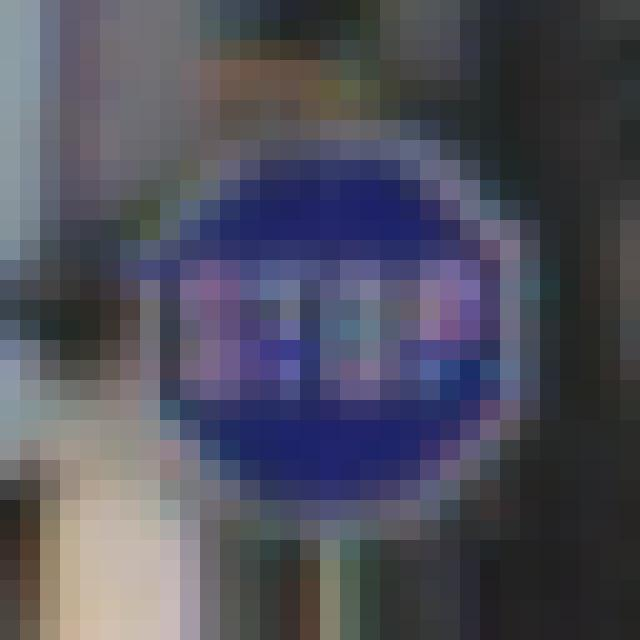STOP: (152, 148, 510, 517)
